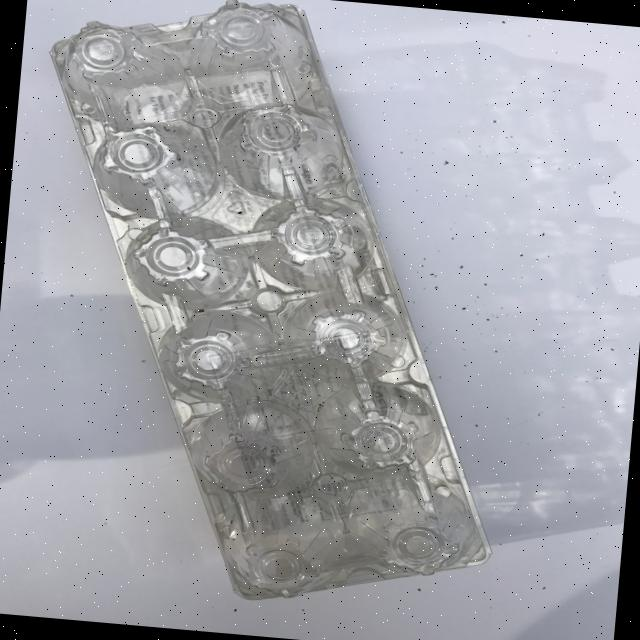plastic: (2, 0, 539, 620)
